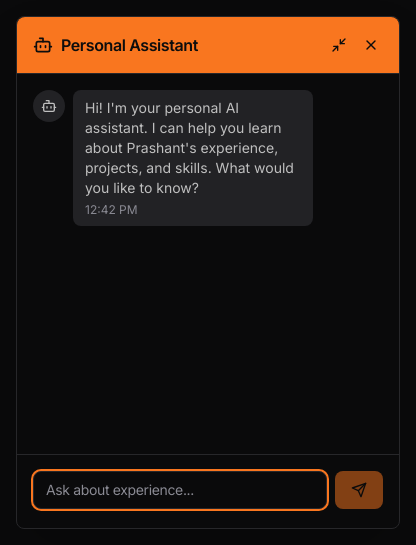
Test: ChatAssistant › renders the server error message when the request fails
Type "Status?" into the field with placeholder "Ask about experience...". click: (180, 490)
box: [33, 471, 327, 509]
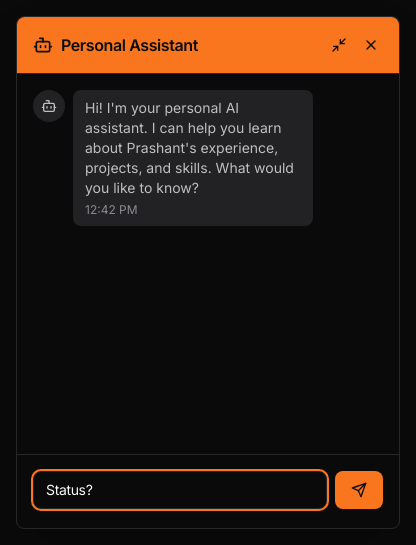
Press Enter in the field with placeholder "Ask about experience...", box [33, 471, 327, 509]
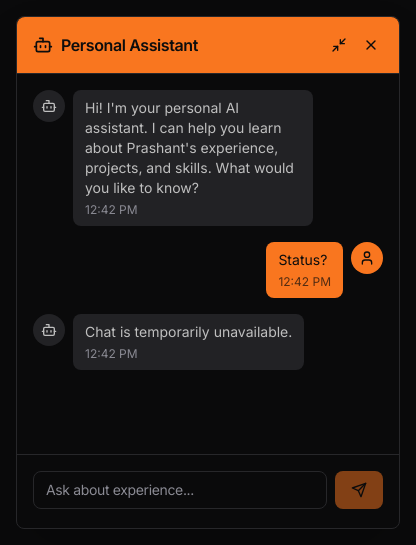
Expected: the text "Status?" is shown, [278, 250, 331, 270]
Expected: the text "Chat is temporarily unavailable." is shown, [85, 322, 292, 342]
